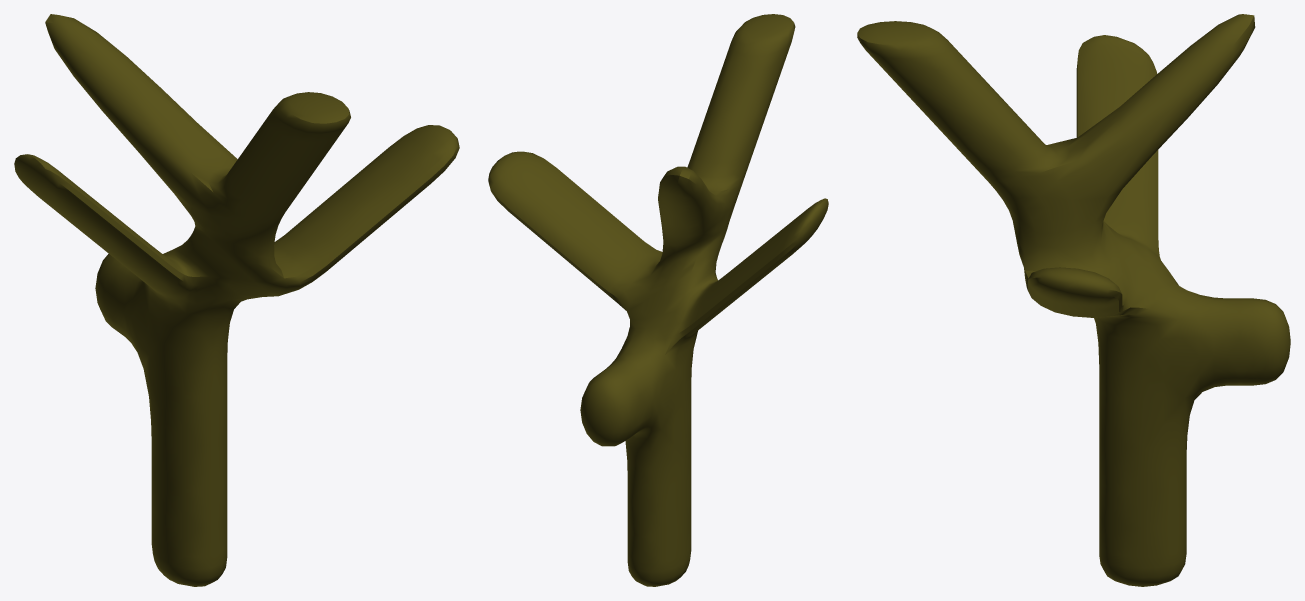
File: Dead Tree 3.fbx
3 views of the same model, side by side, from view 1: azimuth 30°, elevation 25°; view 2: azimuth 150°, elevation 25°; view 3: azimuth 270°, elevation 25° (orthographic). The views are drawn at different scales.
Parts seen in each view (by area): view 1: Cube; view 2: Cube; view 3: Cube.
Boxes of the visible parts, bbox=[...] form: Cube: bbox=[14, 14, 459, 586]; Cube: bbox=[488, 14, 828, 586]; Cube: bbox=[857, 14, 1290, 586].
Size of the model in its own units: 174 by 234 by 166.
